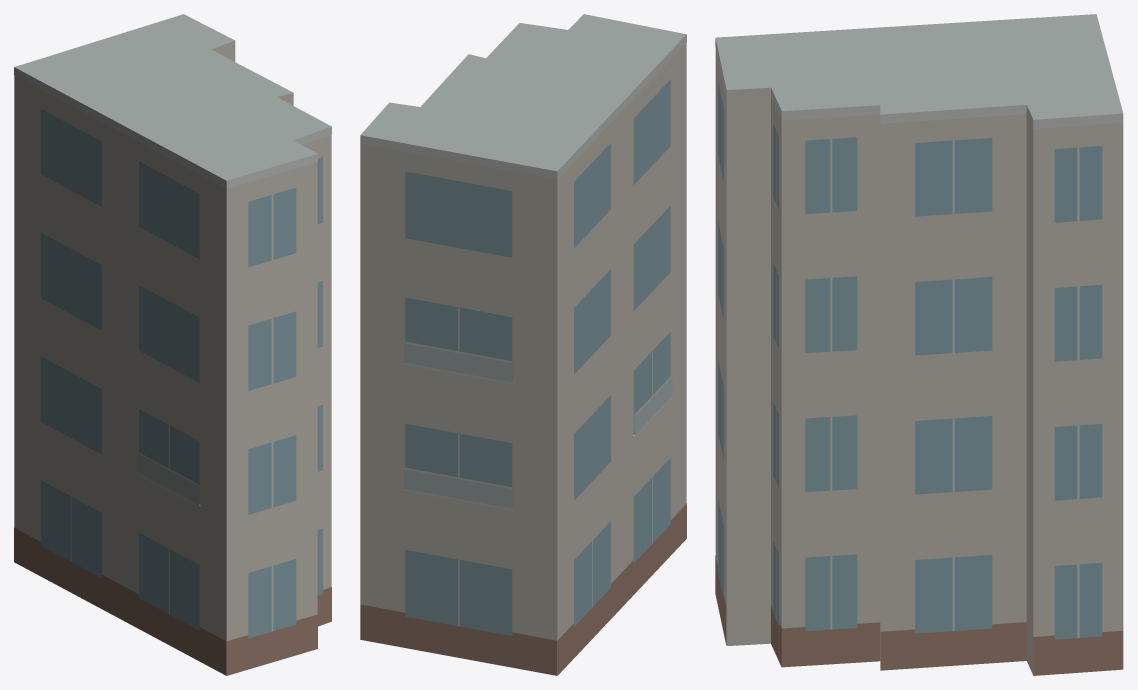
Rendered from survey-upis-32486907.glb.
3 views of the same model, side by side, from view 1: azimuth 30°, elevation 25°; view 2: azimuth 150°, elevation 25°; view 3: azimuth 270°, elevation 25° (orthographic). The views are drawn at different scales.
Parts seen in each view (by area): view 1: survey-upis-32486907.tmp; view 2: survey-upis-32486907.tmp; view 3: survey-upis-32486907.tmp.
Boxes of the visible parts, x1,y1,x2,y2 form: survey-upis-32486907.tmp: [14, 14, 331, 675]; survey-upis-32486907.tmp: [360, 14, 686, 675]; survey-upis-32486907.tmp: [715, 14, 1123, 675].
Bounding box in the file's own units: 6.03 × 14.75 × 9.82.
